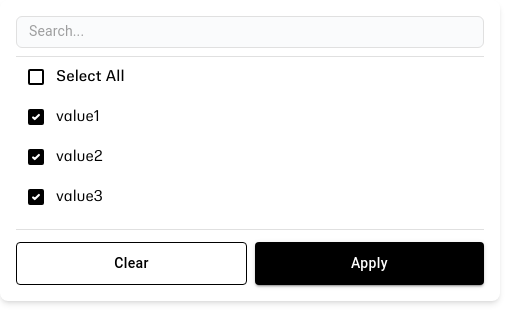
Scenario: MultiFilter › should toggle all checkboxes when Select All is clicked (uncheck all)
The image size is (518, 322).
Expected: the 1st checkbox is checked, [28, 69, 44, 85]
Expected: the 2nd checkbox is checked, [28, 109, 44, 125]
Click the button "Select All" at x=90, y=77, box [16, 57, 484, 97]
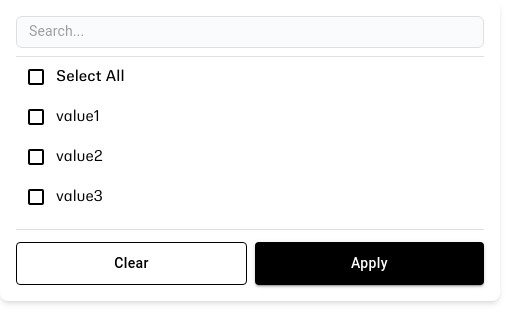
Expected: the 2nd checkbox is not checked, [28, 109, 44, 125]
Expected: the 3rd checkbox is not checked, [28, 149, 44, 165]
Expected: the 4th checkbox is not checked, [28, 189, 44, 205]
